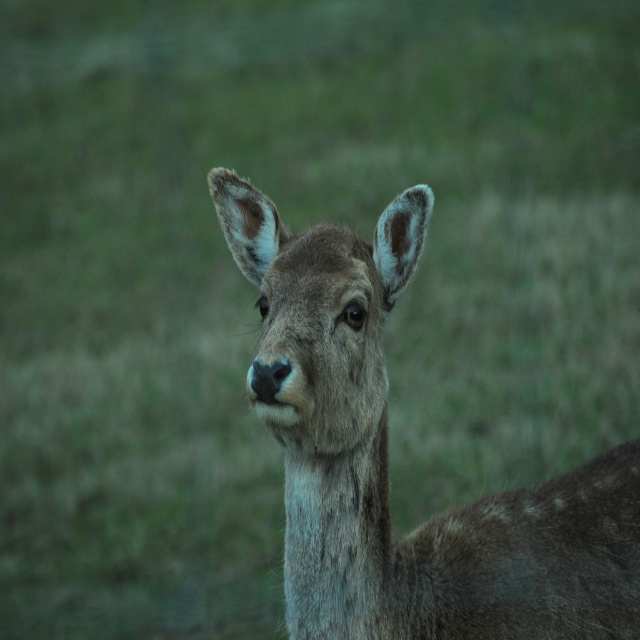Deer: (205, 173, 640, 639)
